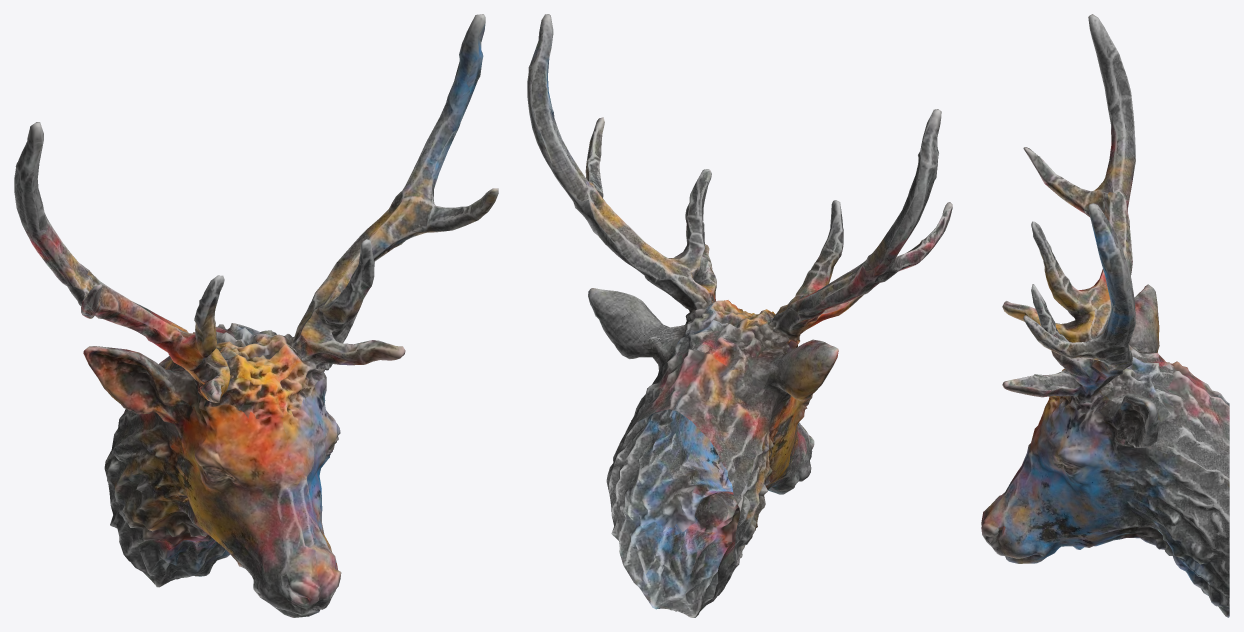
File: proj1.glb
3 views of the same model, side by side, from view 1: azimuth 30°, elevation 25°; view 2: azimuth 150°, elevation 25°; view 3: azimuth 270°, elevation 25° (orthographic). The views are drawn at different scales.
Parts seen in each view (by area): view 1: deer_bust; view 2: deer_bust; view 3: deer_bust.
Part boxes in pixels (bbox=[...]): deer_bust: bbox=[14, 14, 498, 617]; deer_bust: bbox=[527, 14, 952, 617]; deer_bust: bbox=[981, 14, 1229, 617].
Bounding box in the file's own units: 0.6829 × 0.8068 × 0.3649.
1 material, 1 textured.
